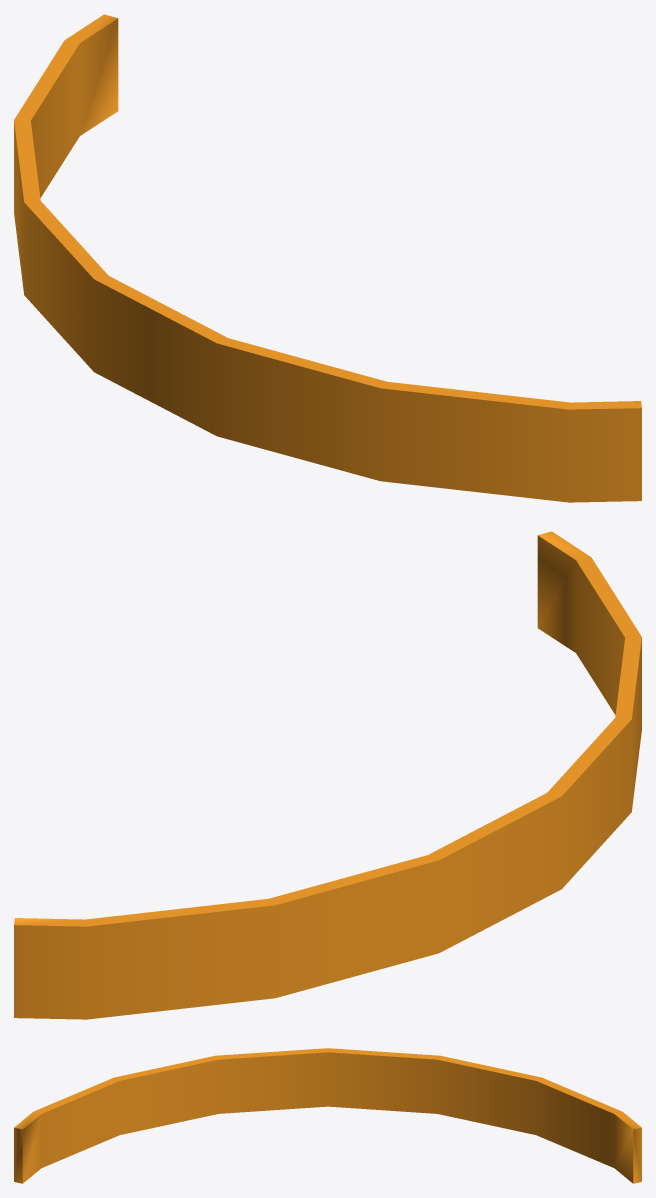
Rendered from half_circle_barrier.fbx.
The picture shows the model from 3 angles, top to bottom: view 1: azimuth 30°, elevation 25°; view 2: azimuth 150°, elevation 25°; view 3: azimuth 270°, elevation 25°; orthographic projection. The views are drawn at different scales.
Visible parts, largest first — view 1: Cylinder.082; view 2: Cylinder.082; view 3: Cylinder.082.
Part boxes in pixels (box(x1,y1,x2,y2)): Cylinder.082: box(14, 14, 641, 502); Cylinder.082: box(14, 531, 641, 1019); Cylinder.082: box(14, 1048, 641, 1183).
Size of the model in its own units: 643 by 200 by 2097.
